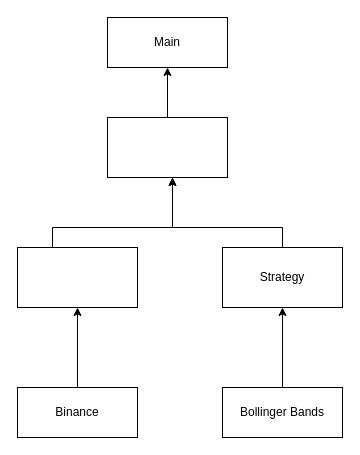
Image size: 360x455. Some labels were removed from this diagram. The centre of each missing label's shape, as x and y in pixels:
"Data" goes at (x=77, y=277).
"Server" goes at (x=167, y=147).
